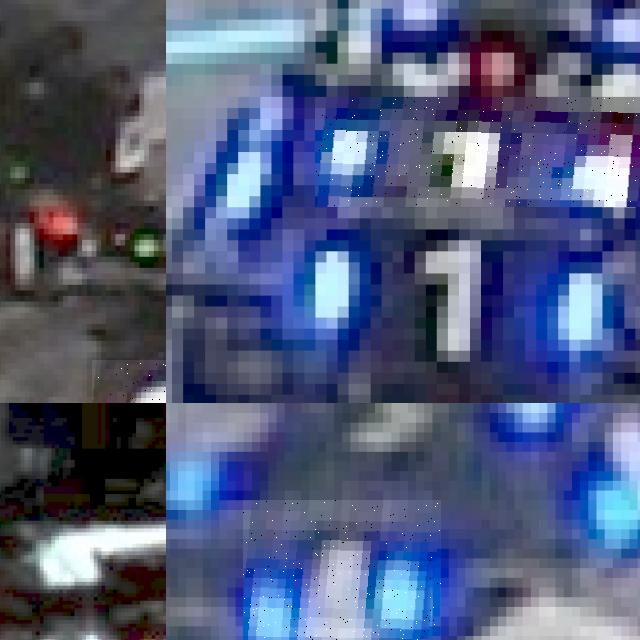B1: (304, 224, 624, 345), (315, 96, 640, 207)
B4: (243, 500, 440, 640)
